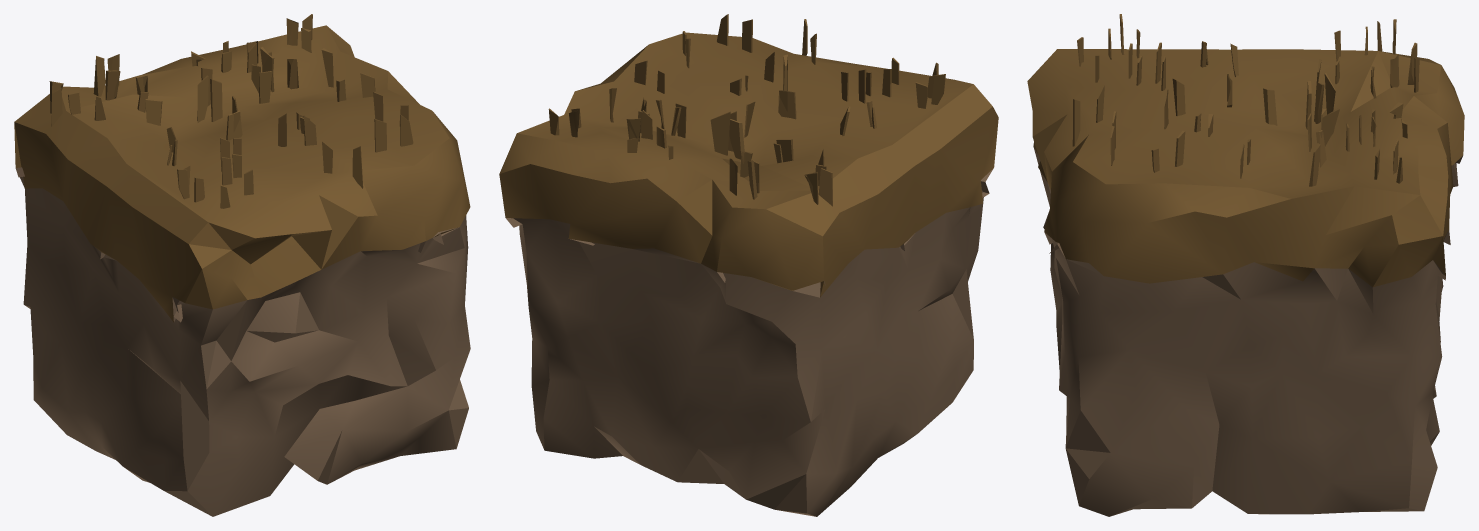
Rendered from TrozoTierra_isla.fbx.
The picture shows the model from 3 angles, left to right: view 1: azimuth 30°, elevation 25°; view 2: azimuth 150°, elevation 25°; view 3: azimuth 270°, elevation 25°; orthographic projection. The views are drawn at different scales.
Visible parts, largest first — view 1: Tile_Rocky_01.056; view 2: Tile_Rocky_01.056; view 3: Tile_Rocky_01.056.
Boxes of the visible parts, x1,y1,x2,y2 form: Tile_Rocky_01.056: (14,14,470,516); Tile_Rocky_01.056: (499,14,998,516); Tile_Rocky_01.056: (1027,14,1464,516).
Bounding box in the file's own units: 235 × 246 × 251.
